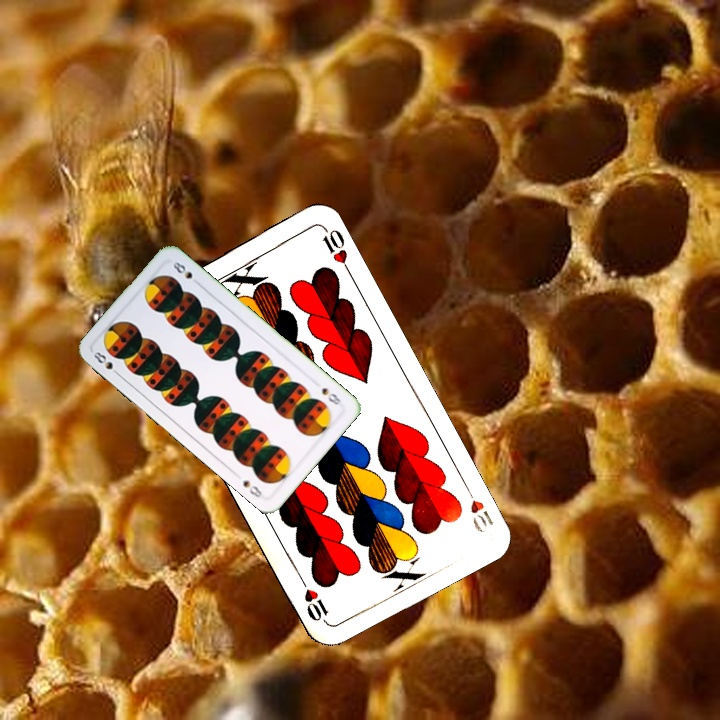H10: (460, 479, 497, 528)
S8: (89, 347, 123, 379), (317, 383, 344, 407)
